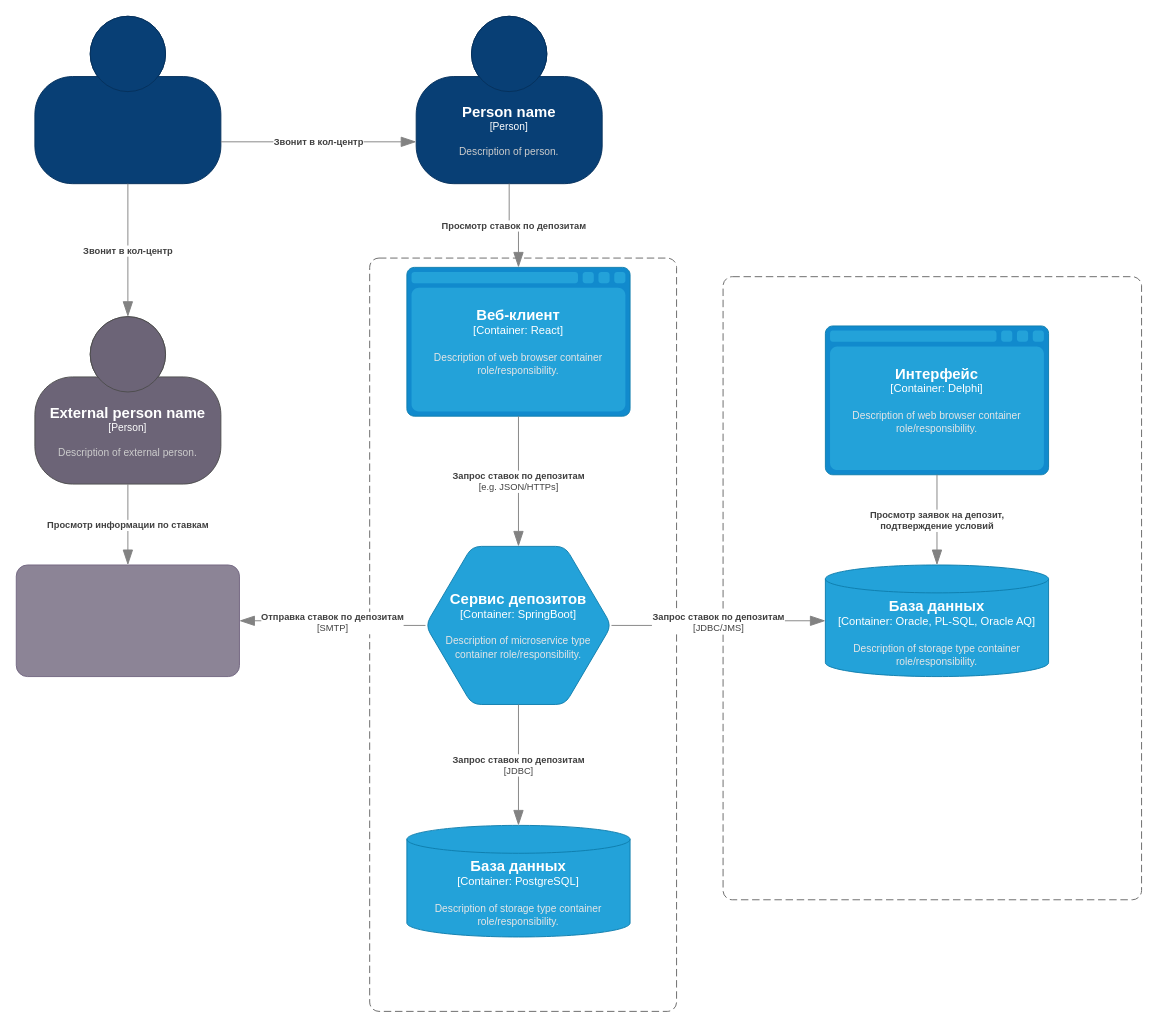
The diagram is 1158 pixels wide and 1028 high, and some of its shapes have lost their labels. The shapes that lost their labels are listed below. From the top down, each one's box as (x1, y1, x2, y2) in pixels, then its label:
(34, 15, 221, 184): Клиент [Person] Description of person.
(722, 276, 1142, 900): АБС [Software System]
(15, 564, 239, 677): Партнерский кол-центр [Software System] Description of external software system.
(369, 257, 677, 1011): Система кол-центра [Software System]
